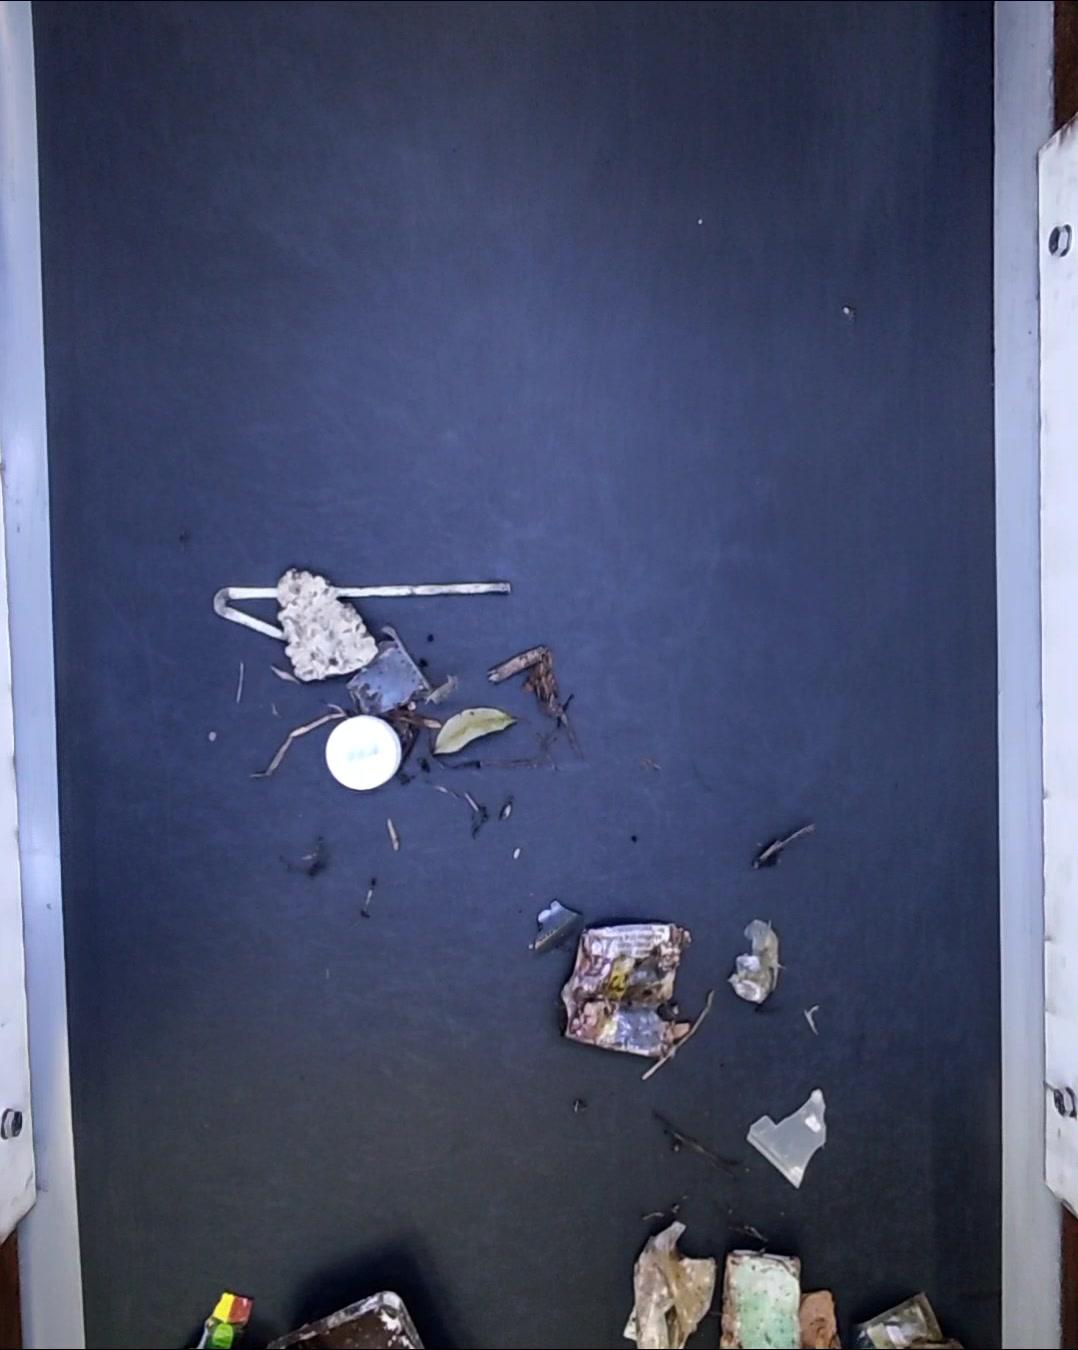Plastic folies of stukken daarvan 2.5- 50 cm: (627, 1226, 712, 1350), (725, 920, 781, 1006)
Snoep snack en chips verpakkingen: (193, 1296, 256, 1350)
Voedselverpakkingen: (262, 1288, 421, 1350)
